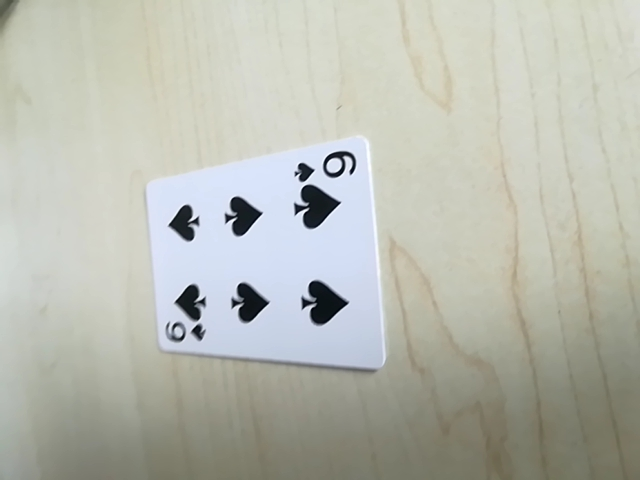ht 6: (293, 148, 359, 185), (159, 313, 210, 350)
